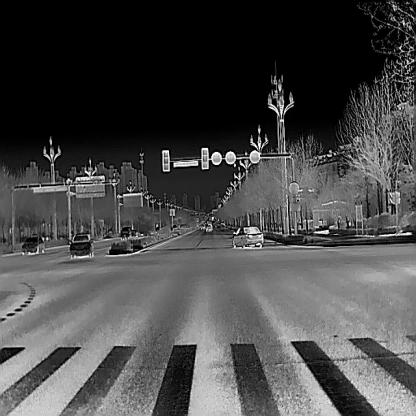car: (232, 226, 264, 248), (68, 232, 94, 258), (21, 235, 45, 254), (120, 225, 131, 239), (206, 223, 212, 230), (220, 222, 225, 228)
